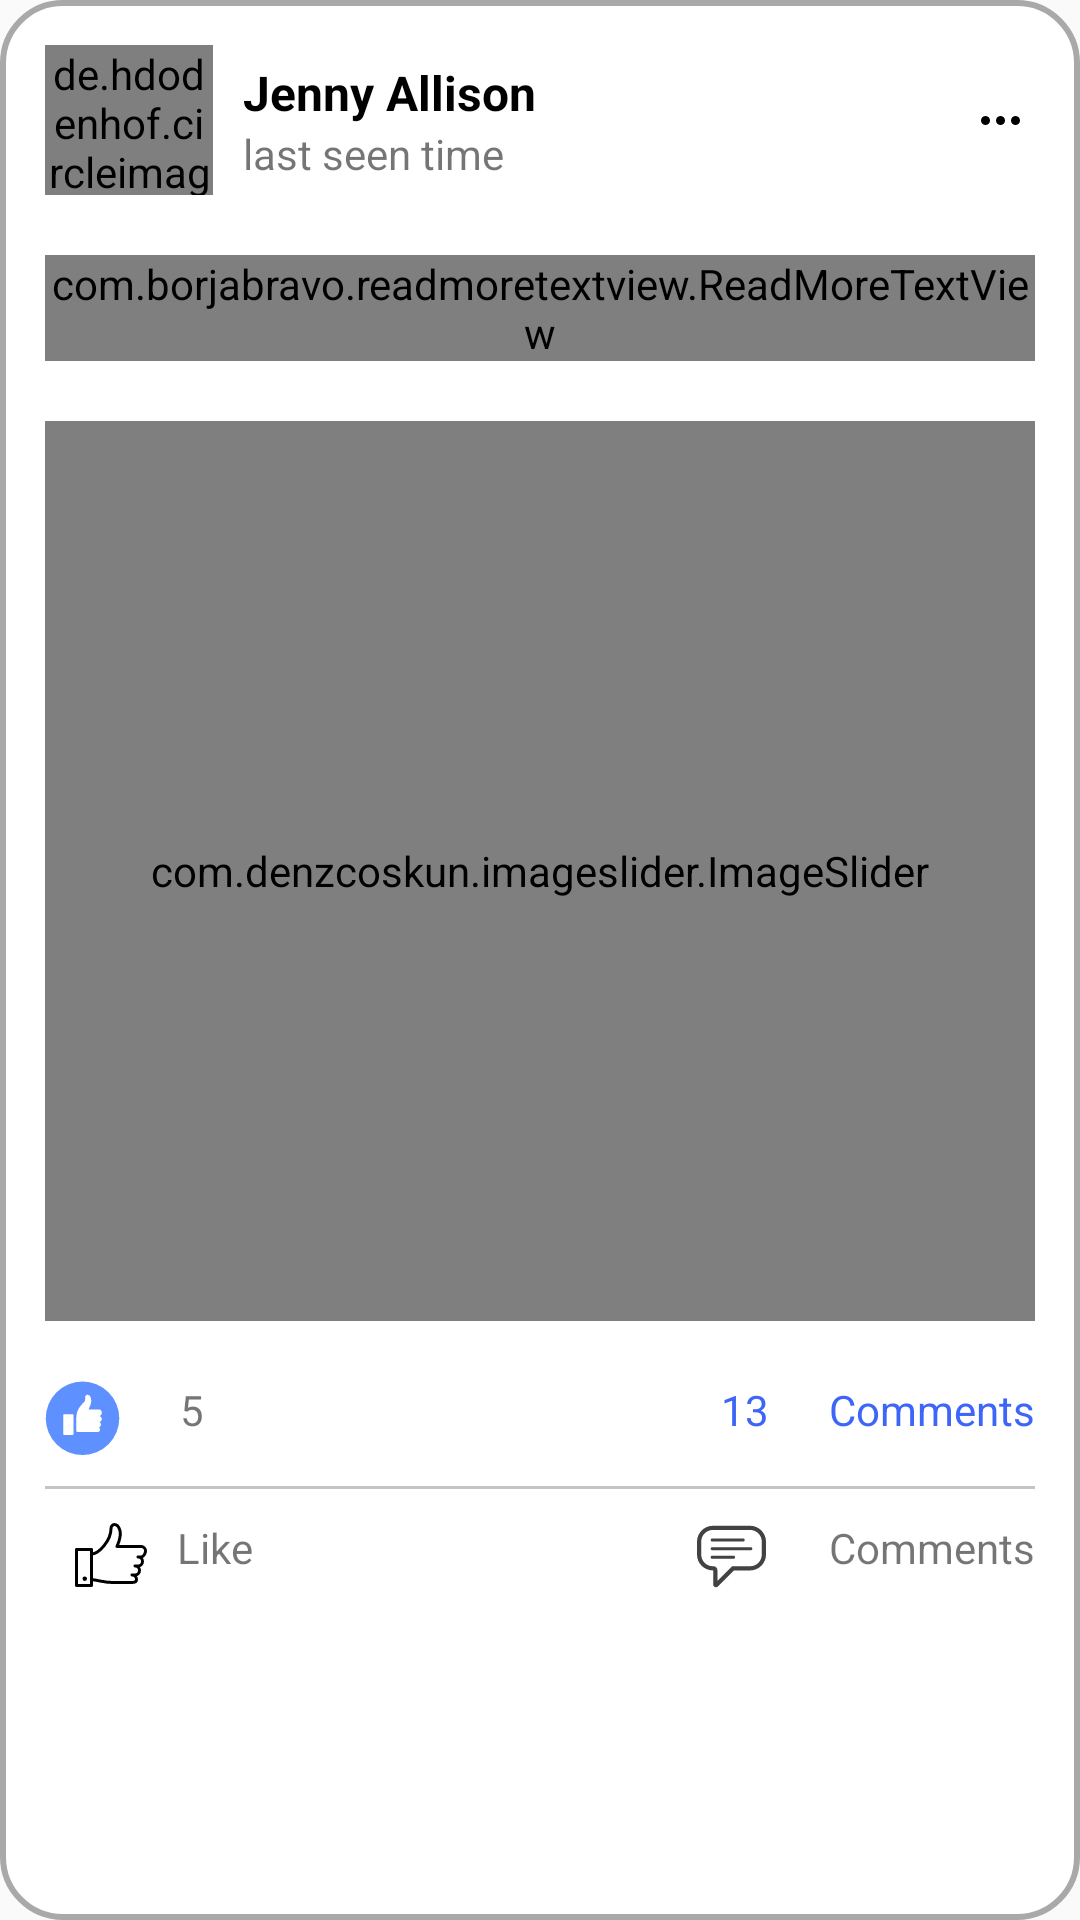

Named icons in this screenshot (1080×1920) and their centers, (x=x, y=y):
threehorizontaldot: (x=1000, y=120)
